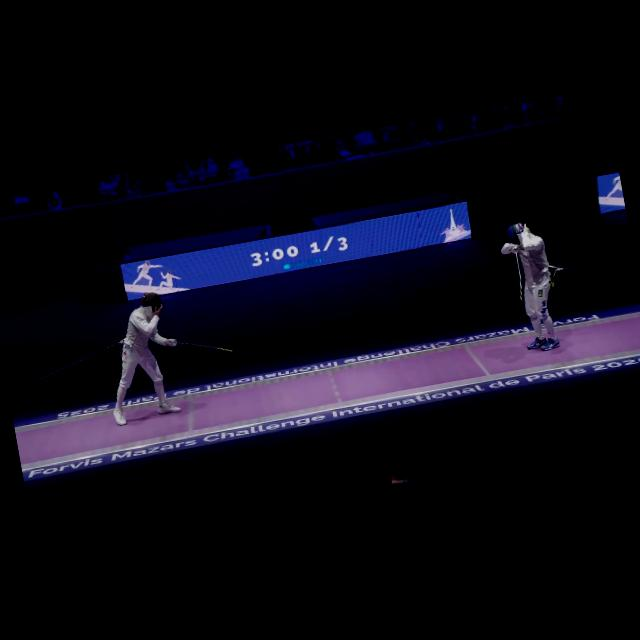blade: (167, 320, 239, 364), (509, 243, 528, 306)
